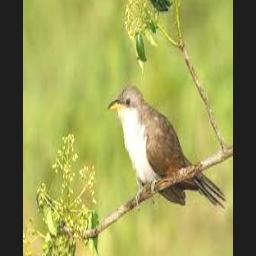Cuckoo: (107, 84, 226, 205)
